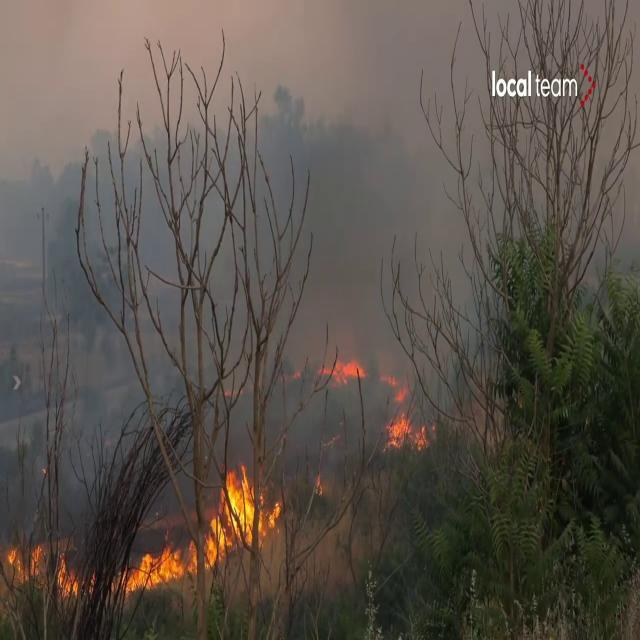Fire: (204, 456, 282, 562), (0, 527, 84, 602), (120, 534, 198, 596), (380, 370, 430, 456), (323, 350, 367, 388)
